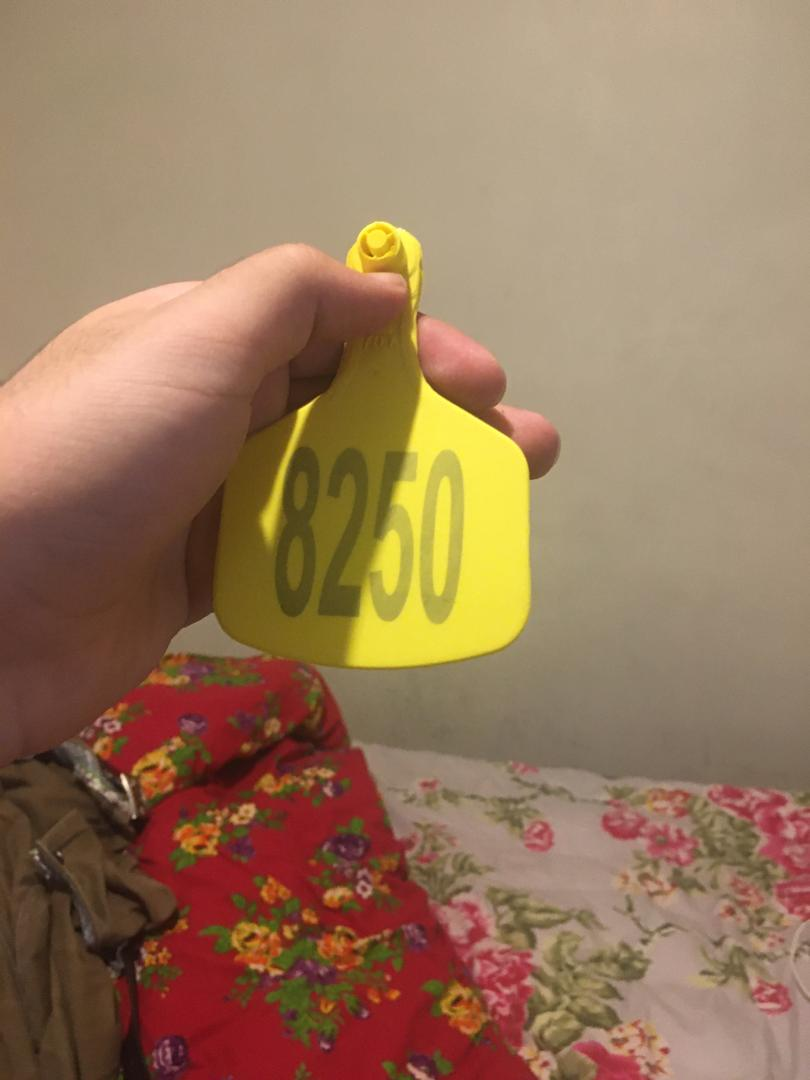digit: (273, 441, 466, 625)
